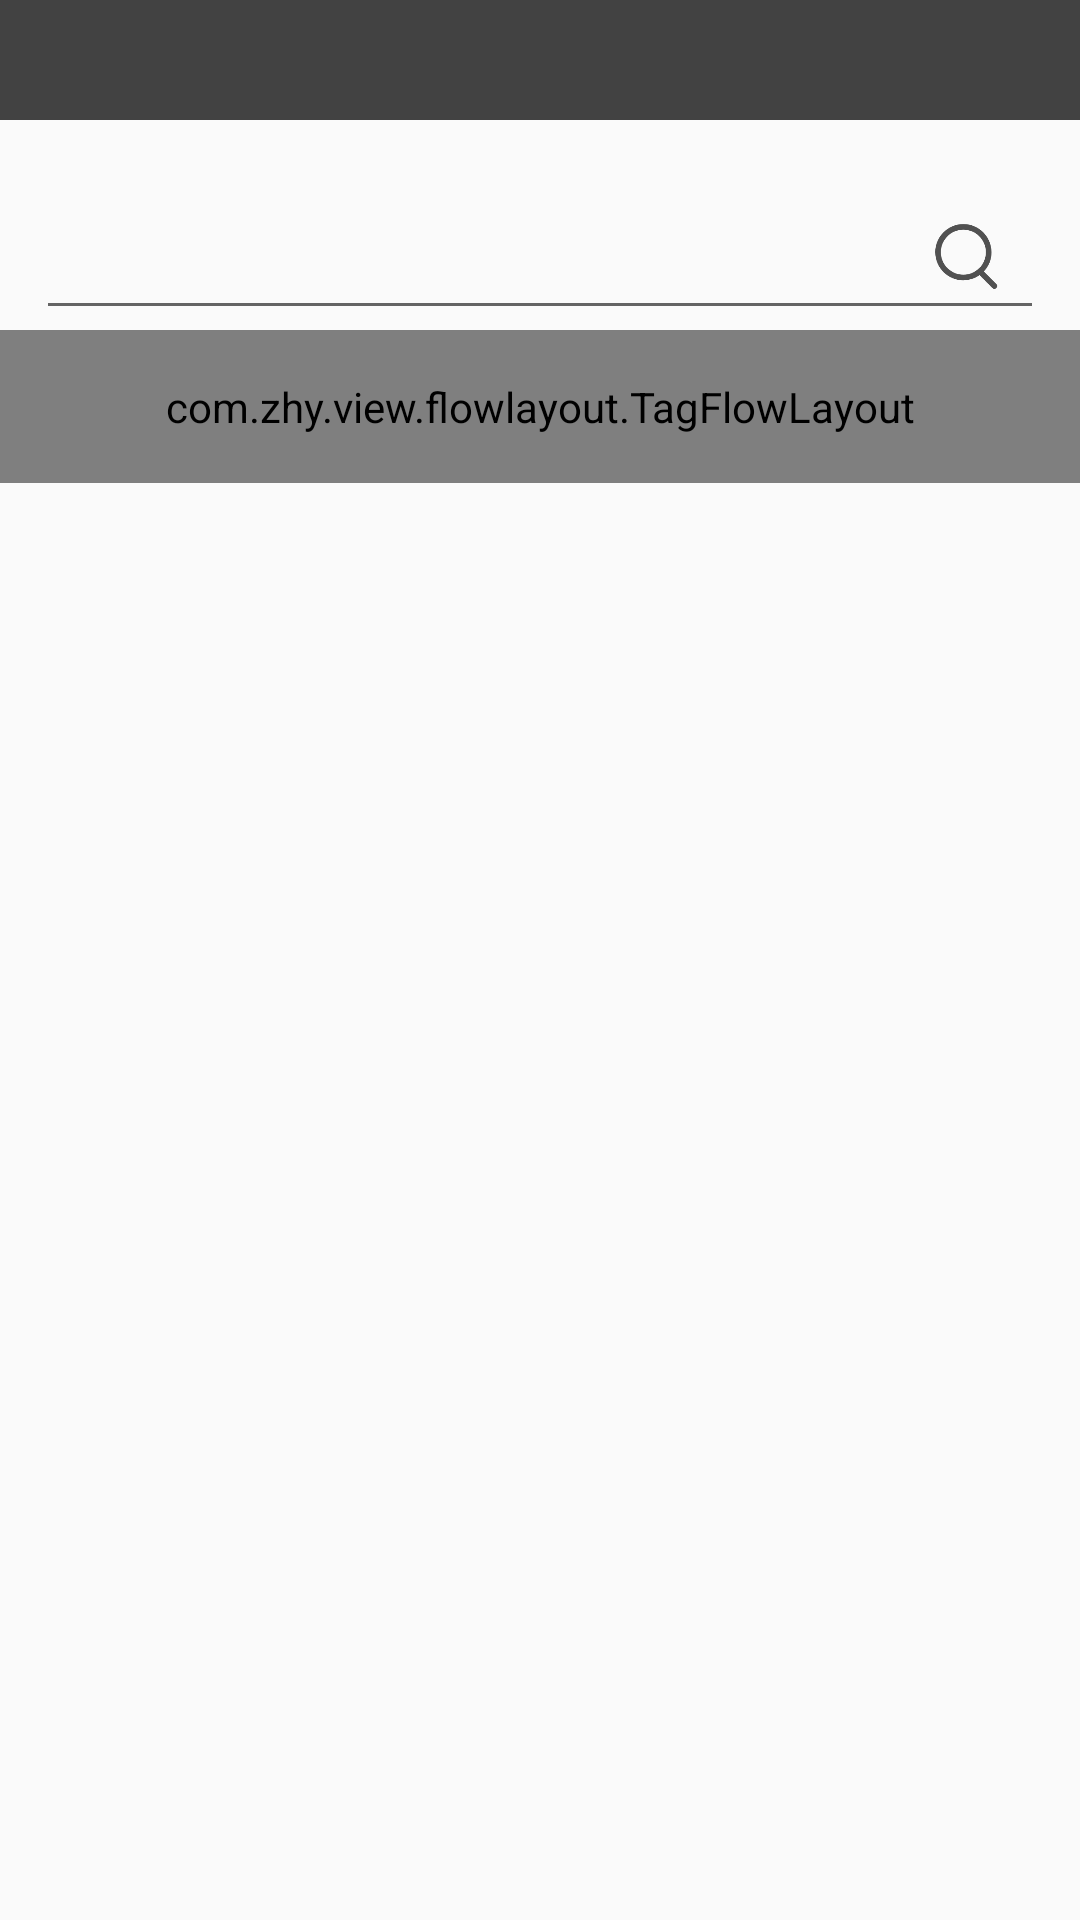

Where icons sit on this 1080×1920 app screen, as (x1, y1, x2, y2):
search: (935, 224, 997, 289)
